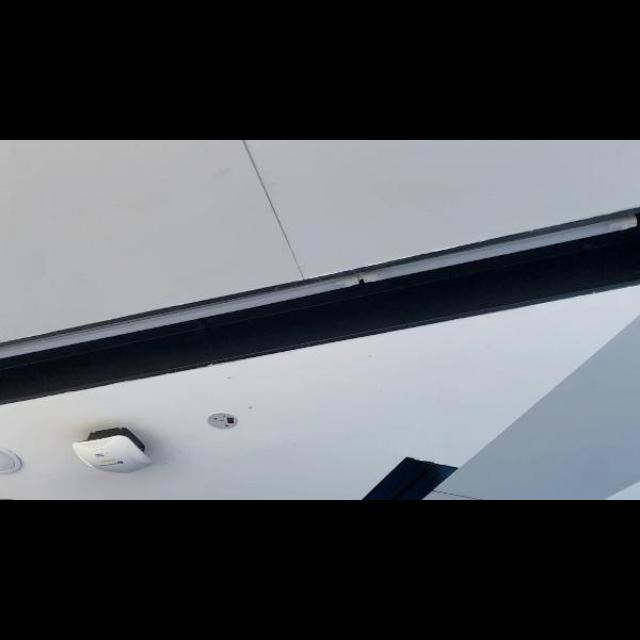Straight-Tube-Fluorescent-Lamp: (0, 183, 636, 391)
